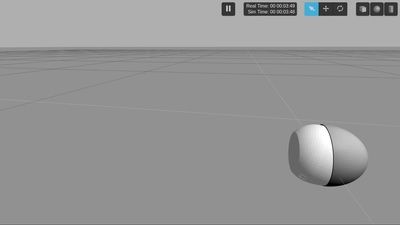mira_robot: (289, 123, 370, 187)
